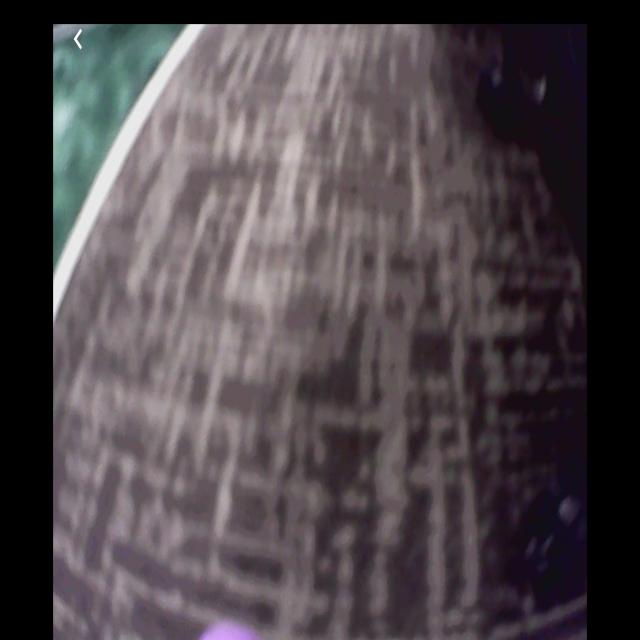ball: (197, 622, 271, 640)
